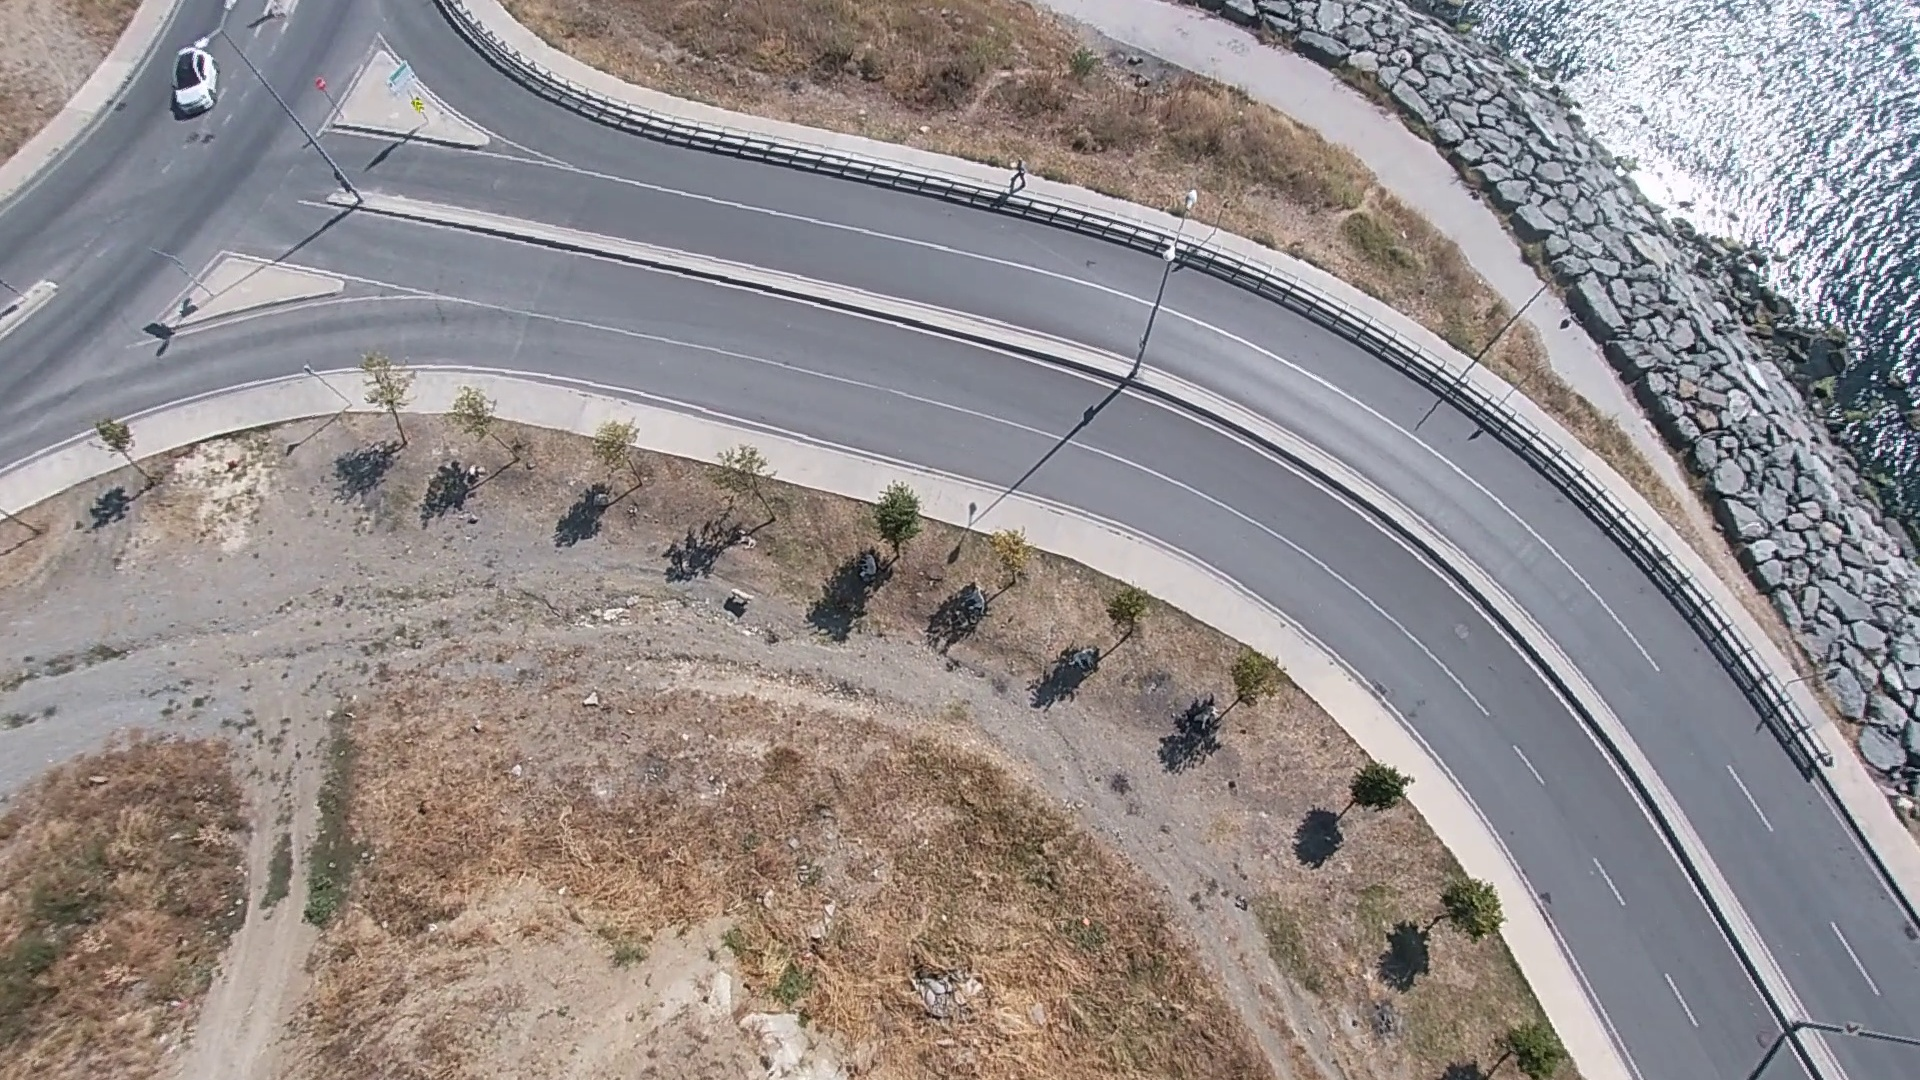arac: (168, 42, 222, 117)
insan: (721, 592, 755, 625)
